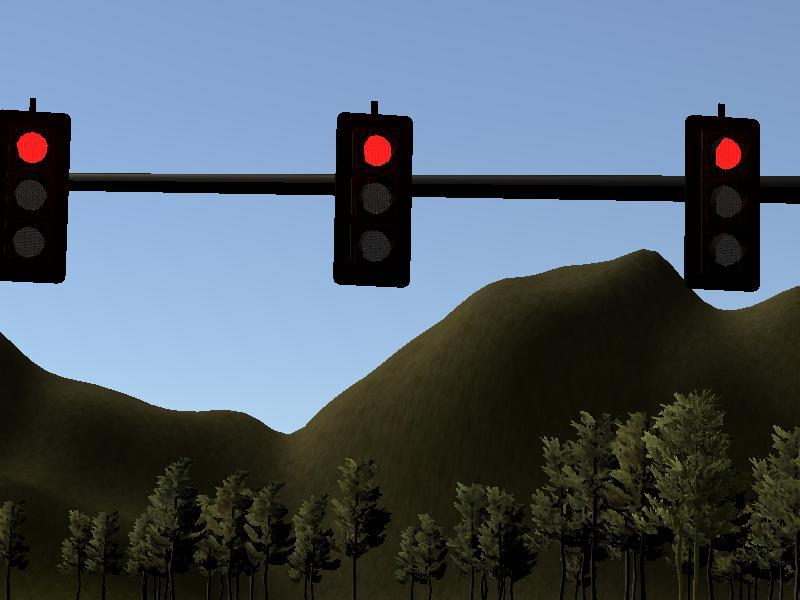Red: (334, 115, 412, 286), (681, 118, 759, 289), (1, 109, 68, 284)
